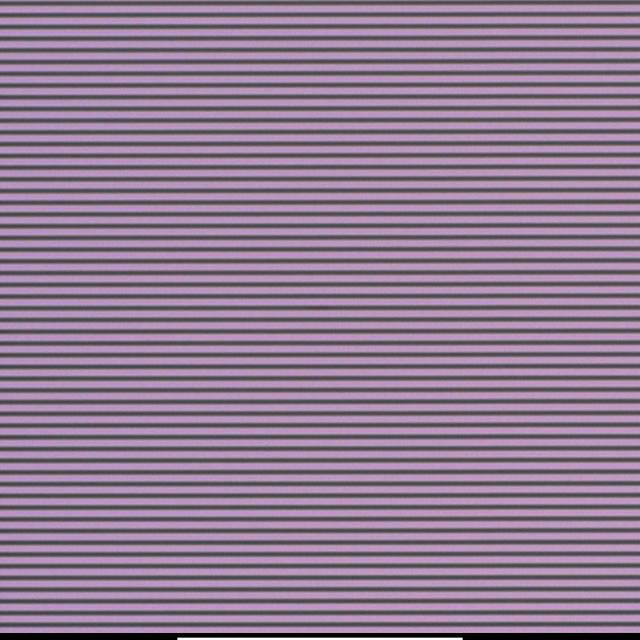03_intrusion: (324, 303, 335, 314)
